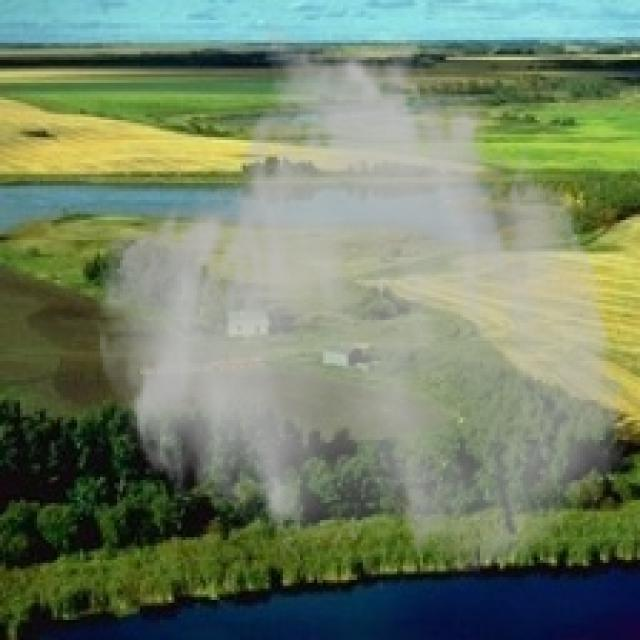Smoke: (91, 17, 634, 577)
